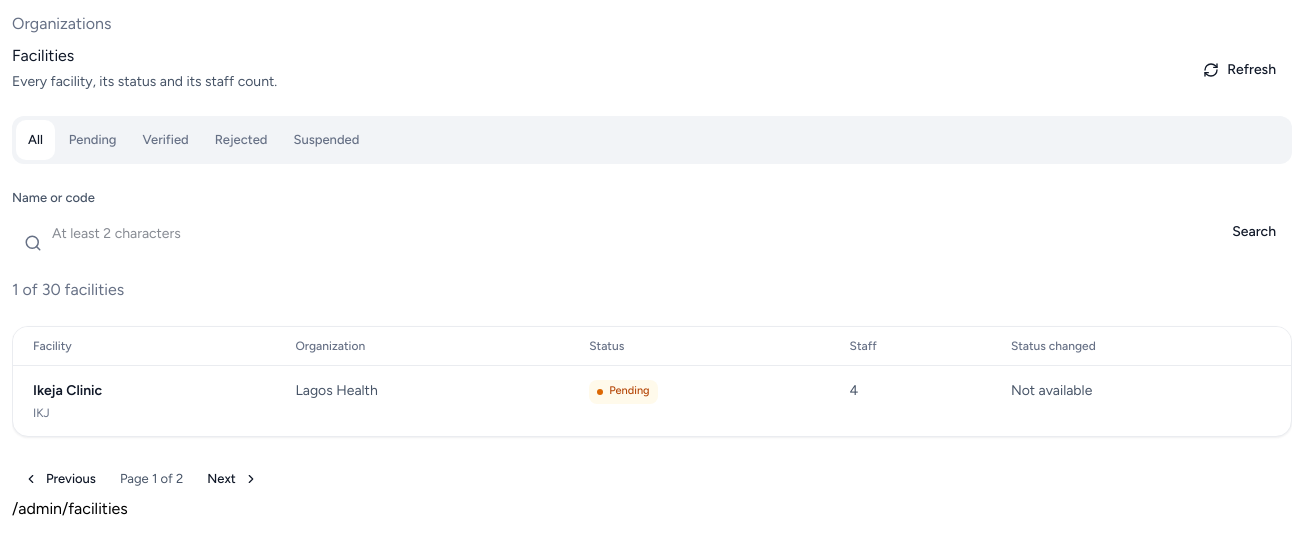
Test: facilities list › pages through results and starts a new search on the first page
This screenshot has width=1304, height=535.
Expected: the text "Page 1 of 2" is shown, [120,469,183,488]
Click the button "Next" at (233, 478), box [195,460,270,496]
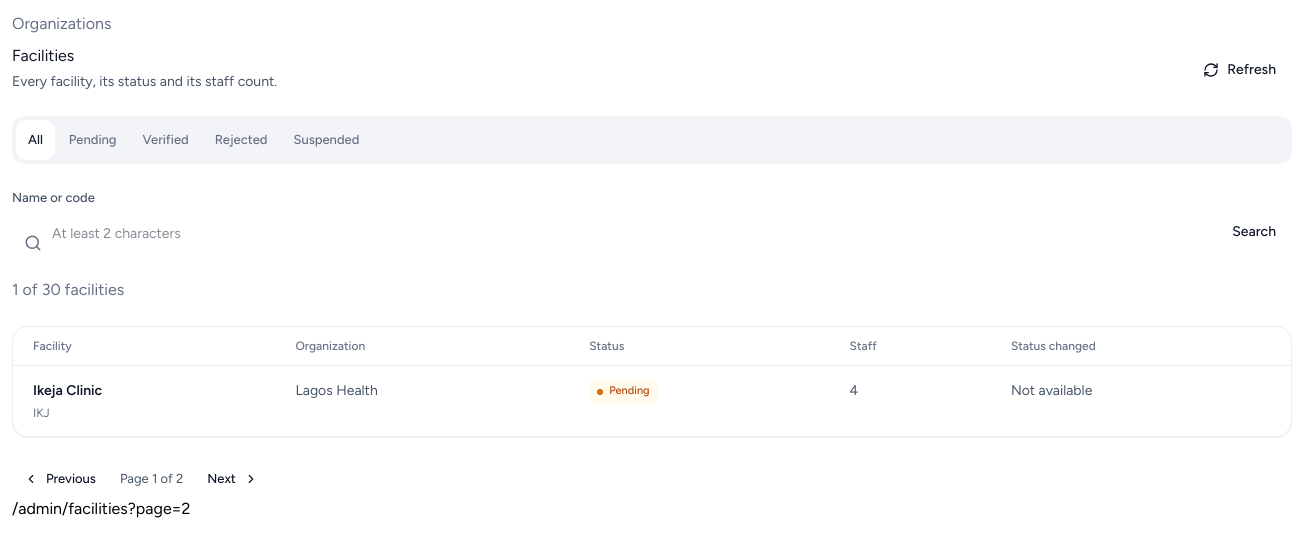
Expected: the text with test id "location" reads "/admin/facilities?page=2", [12,498,190,518]
Type "I" into the search field labelled "Name or code" at (608, 234), box [12,214,1204,254]
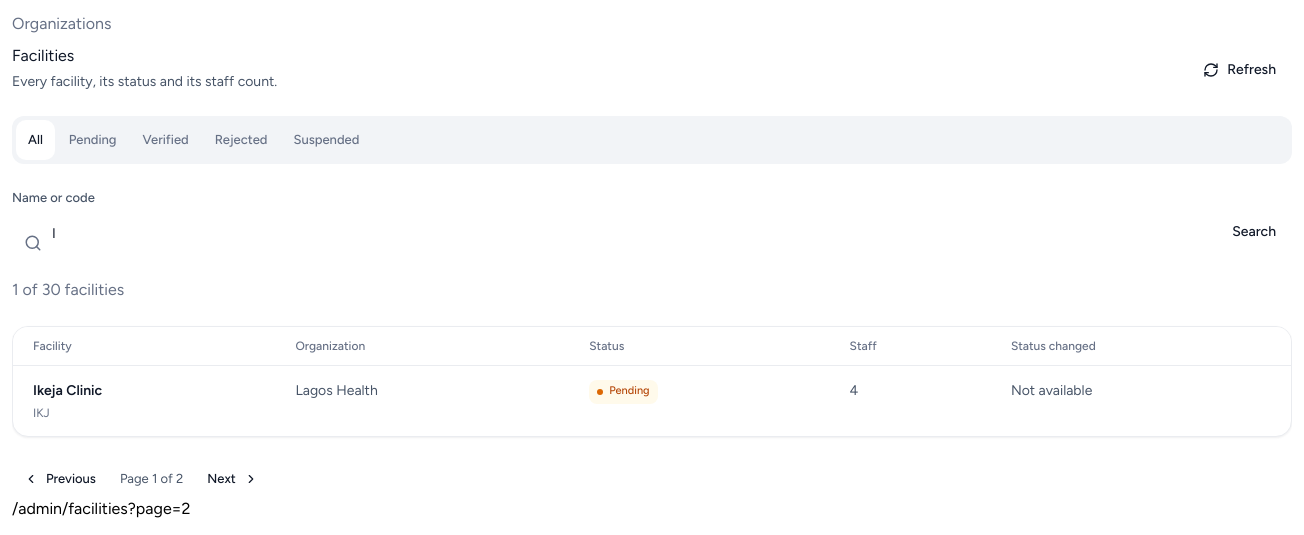
Expected: the button "Search" is disabled, [1216,210,1292,254]
Replace the text in the search field labelled "Name or code" with "Ikeja" at (608, 234), box [12,214,1204,254]
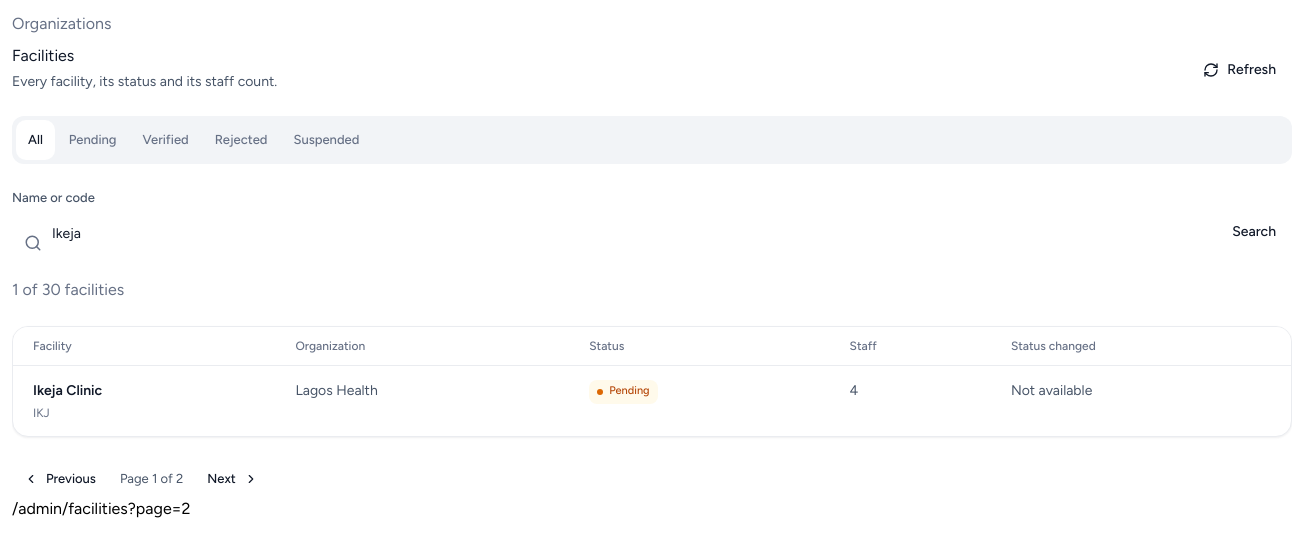
Click the button "Search" at (1254, 232), box [1216,210,1292,254]
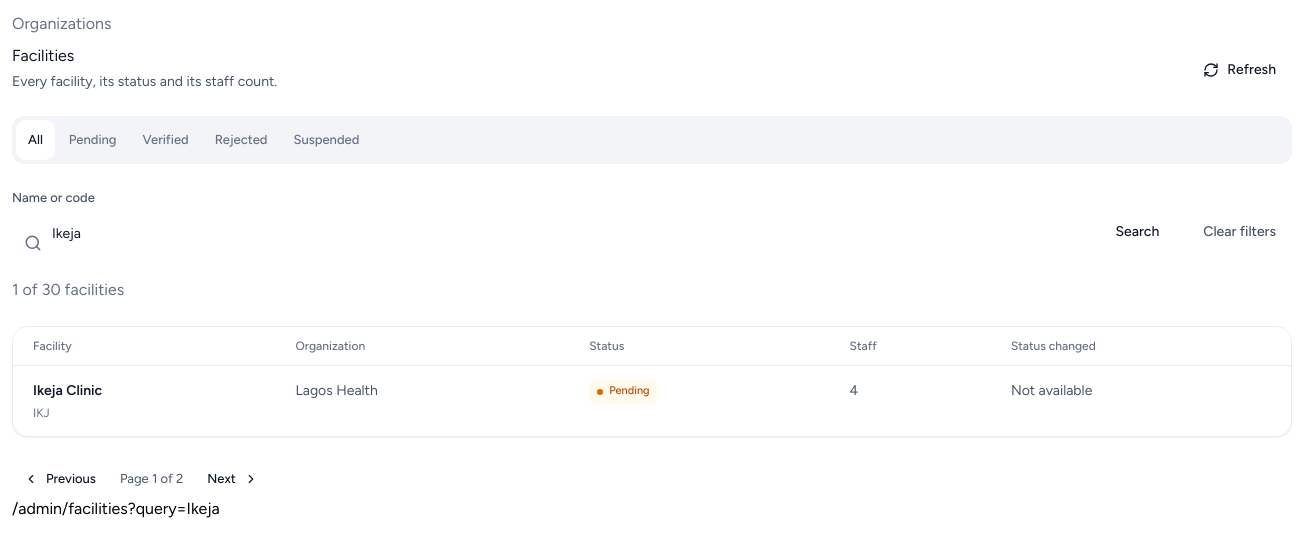
Expected: the text with test id "location" reads "/admin/facilities?query=Ikeja", [12,498,220,518]
